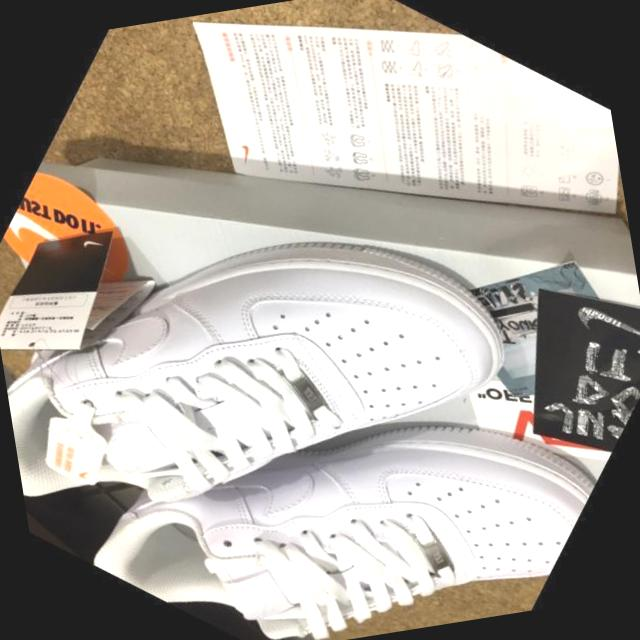nike_original_airforce: (0, 56, 596, 640), (48, 229, 621, 640)
